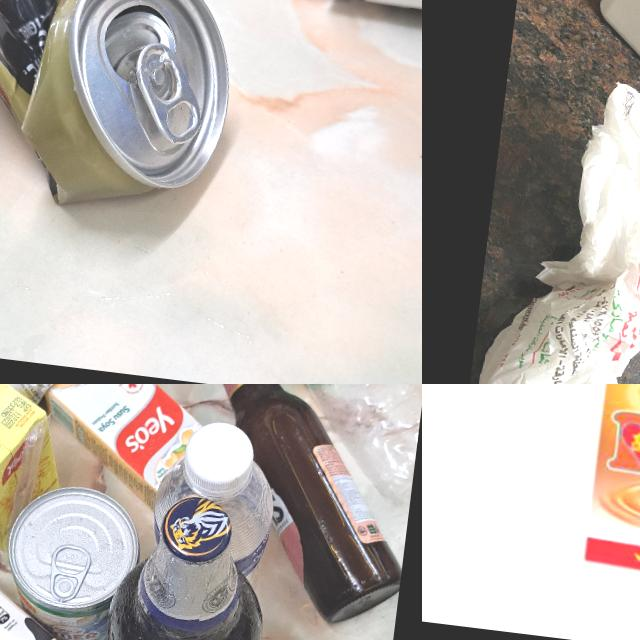aba de lata: (129, 40, 210, 143), (46, 544, 84, 601)
caixinha: (577, 384, 640, 599), (0, 384, 70, 563), (0, 517, 90, 640)
garrafa de vidro: (170, 384, 422, 629), (98, 489, 277, 640)
garrafa plástica: (231, 384, 422, 500), (146, 459, 274, 598)
lata: (0, 0, 255, 223), (0, 482, 137, 640)
sacola plástica: (467, 66, 640, 384)
